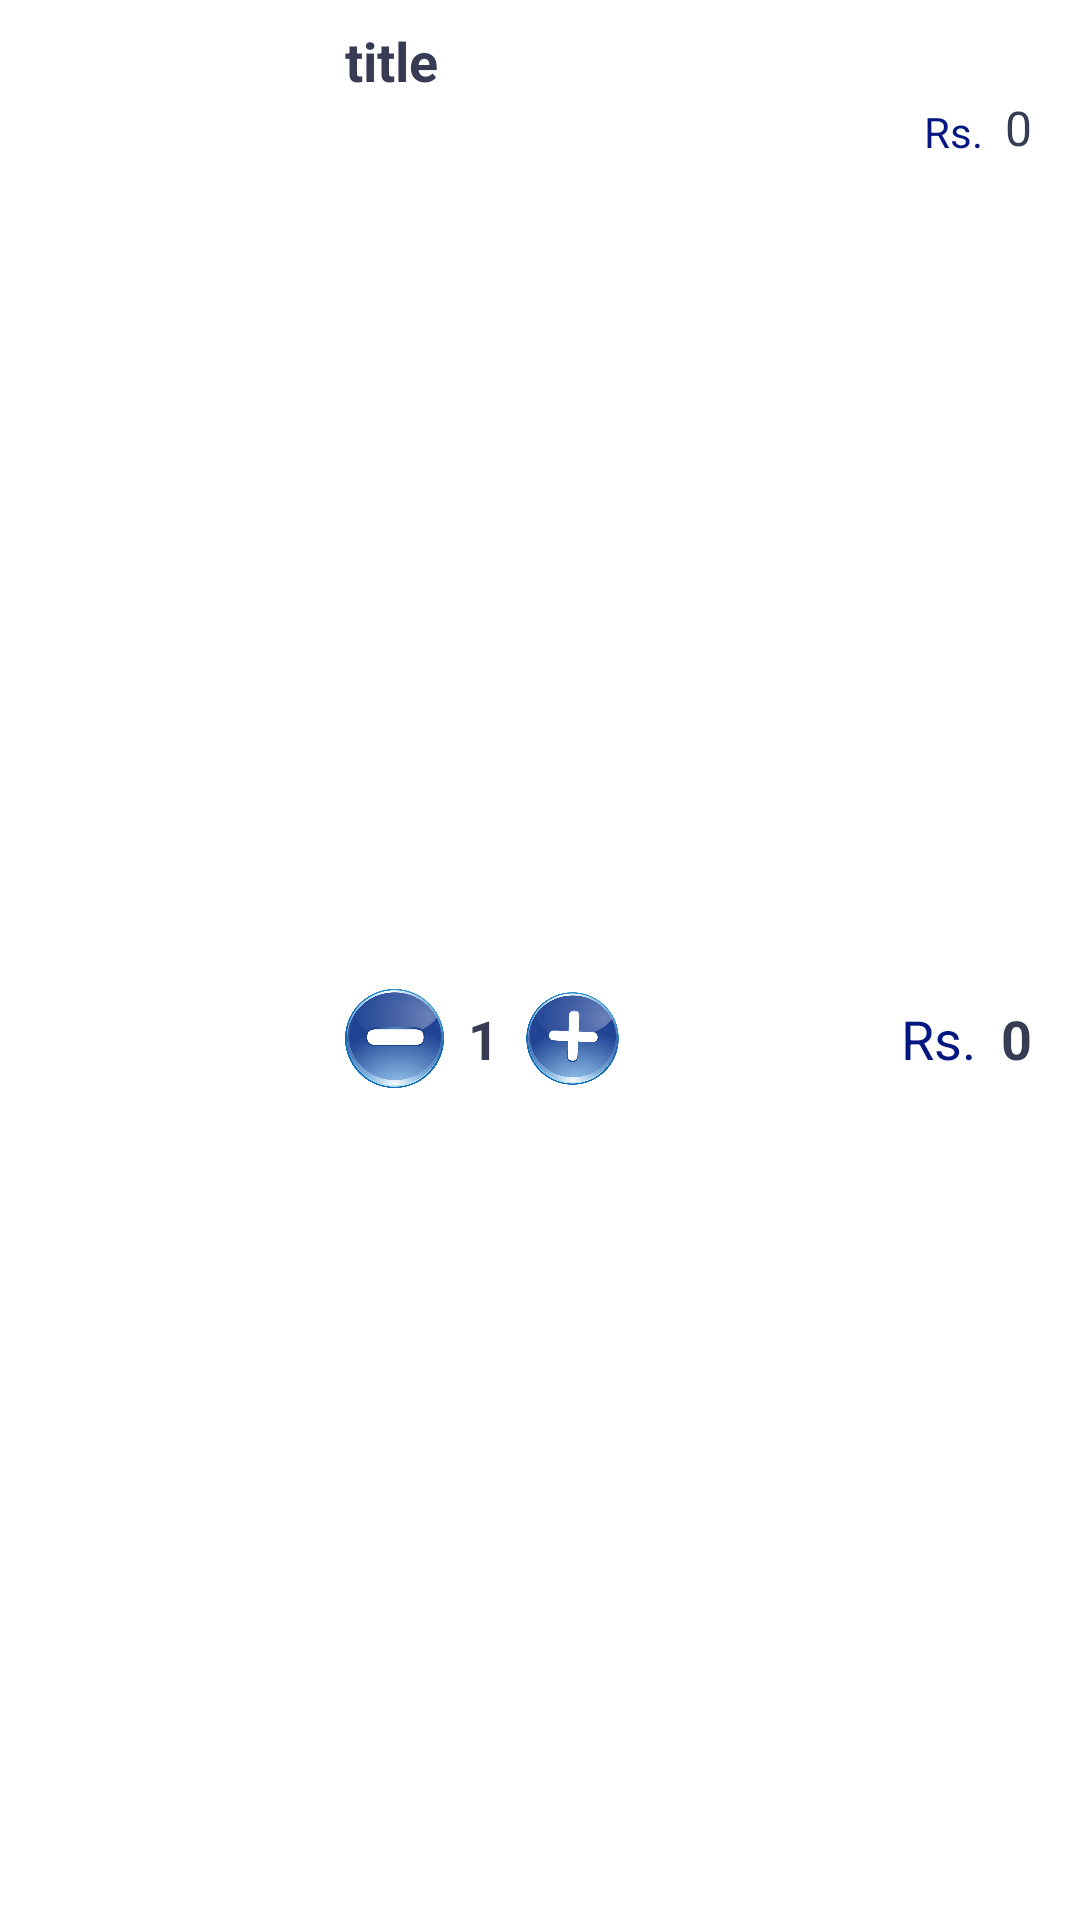

Named icons in this screenshot (1080w x 1920h) and their bounding boxes, [x1, y1, x2, y2]:
minus: [345, 989, 444, 1088]
plus: [526, 992, 619, 1085]
